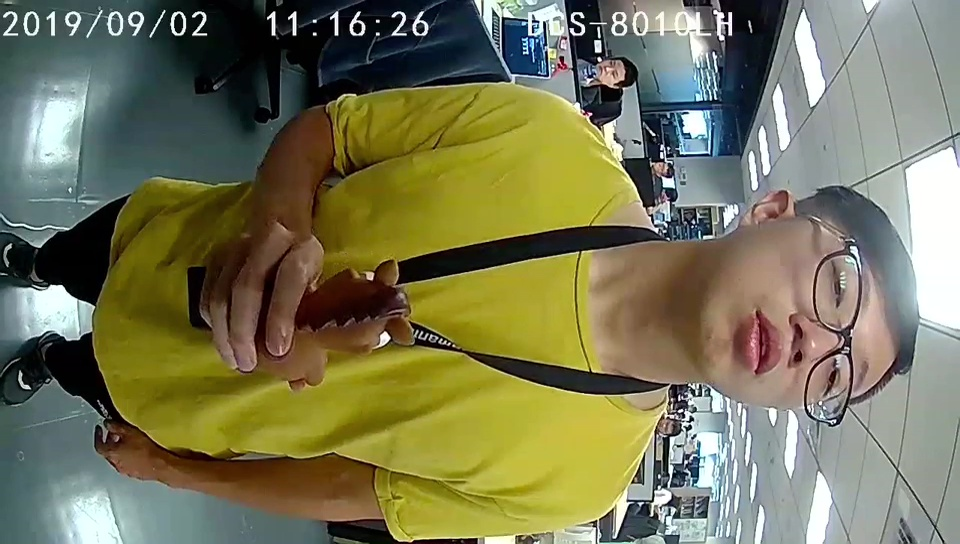horse: (304, 259, 414, 384)
